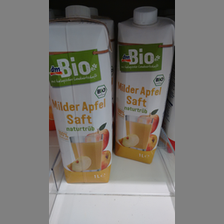juice: (49, 7, 112, 184), (115, 4, 174, 165)
